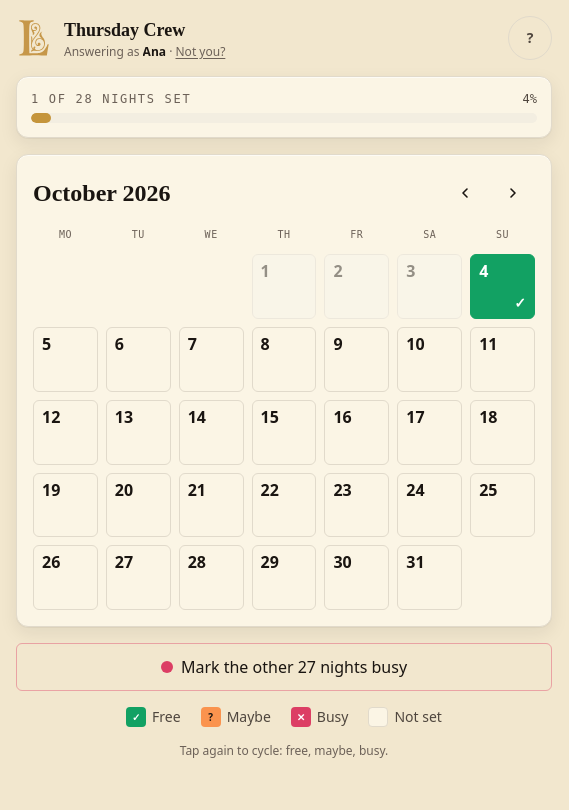
Test: PlayerCalendar › ignores a refusal for a month the player swiped away from
Click the button "Mark the other 27 nights busy" at (284, 667), box [16,643,552,691]
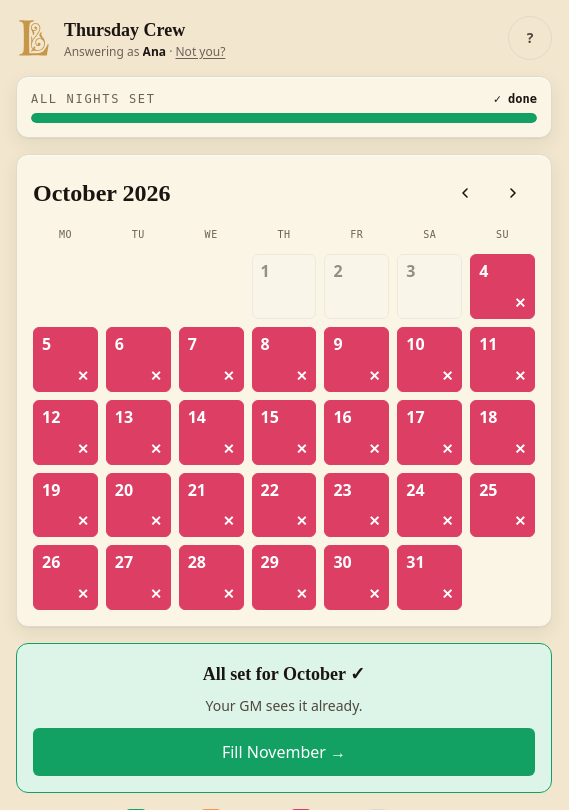
Press the mouse on the element named "October 2026" at (284, 419), box [33,227,535,610]
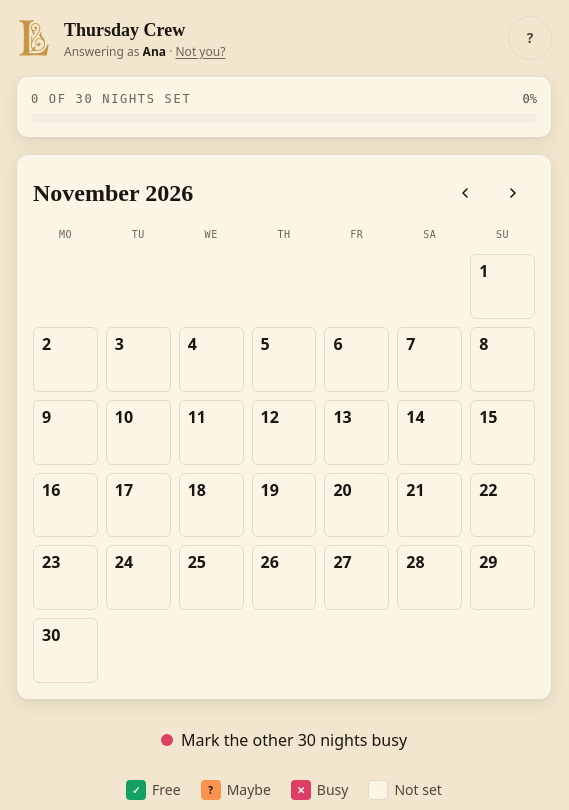
Check: the heading "November 2026" is shown, box [33,177,193,209]
